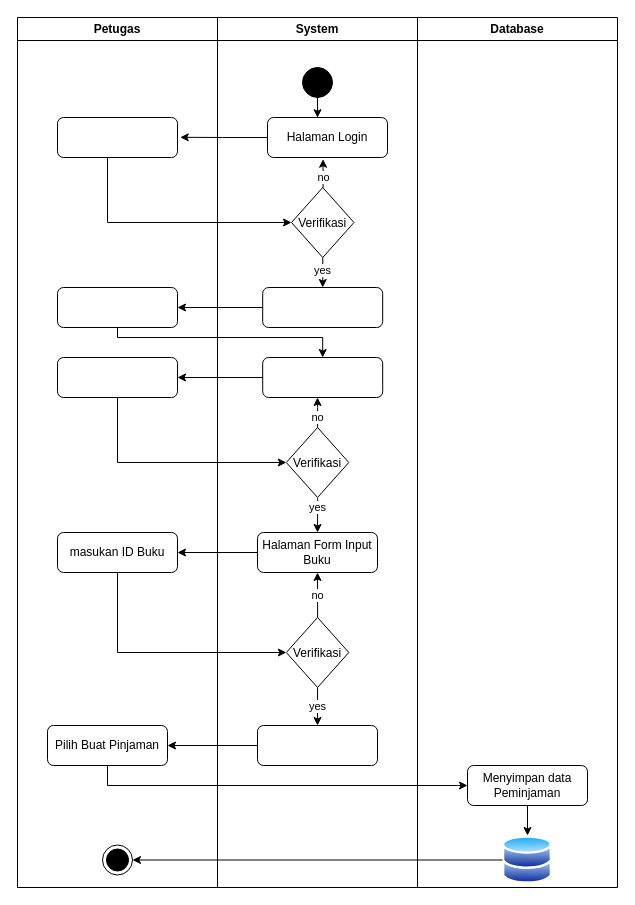
Image size: 635x905. Some labels were removed from this diagram. Each missing label, with the centre of its shape:
Halaman Dashboard: the point at 322,307
halaman Peminjaman: the point at 322,377
masukan ID Anggota: the point at 117,377
Masukan Username dan Password: the point at 117,137
Menampilkan List Buku: the point at 317,745
pilih menu Peminjaman: the point at 117,307
